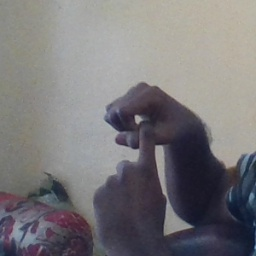Q: (92, 81, 189, 233)
